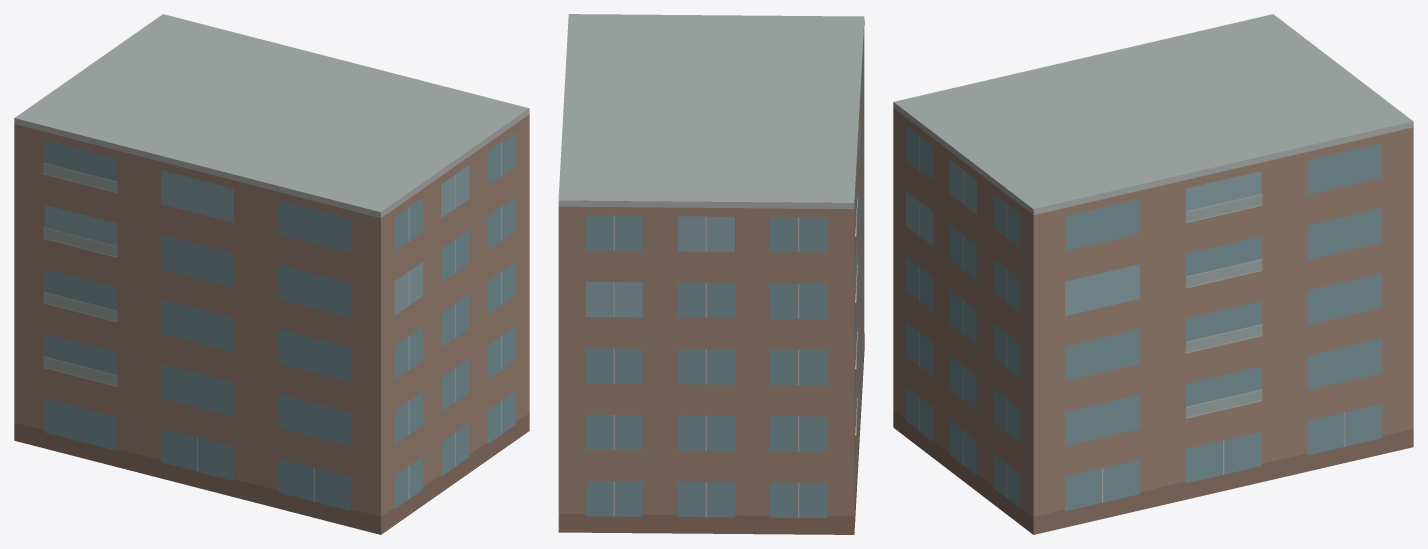
The model's file is survey-upis-32914142.glb.
The picture shows the model from 3 angles, left to right: view 1: azimuth 30°, elevation 25°; view 2: azimuth 150°, elevation 25°; view 3: azimuth 270°, elevation 25°; orthographic projection. The views are drawn at different scales.
Visible parts, largest first — view 1: survey-upis-32914142.tmp; view 2: survey-upis-32914142.tmp; view 3: survey-upis-32914142.tmp.
Part boxes in pixels (x1,y1,x2,y2): survey-upis-32914142.tmp: (14, 14, 529, 534); survey-upis-32914142.tmp: (558, 14, 864, 534); survey-upis-32914142.tmp: (893, 14, 1413, 534).
Size of the model in its own units: 17.11 by 13.3 by 19.26.
